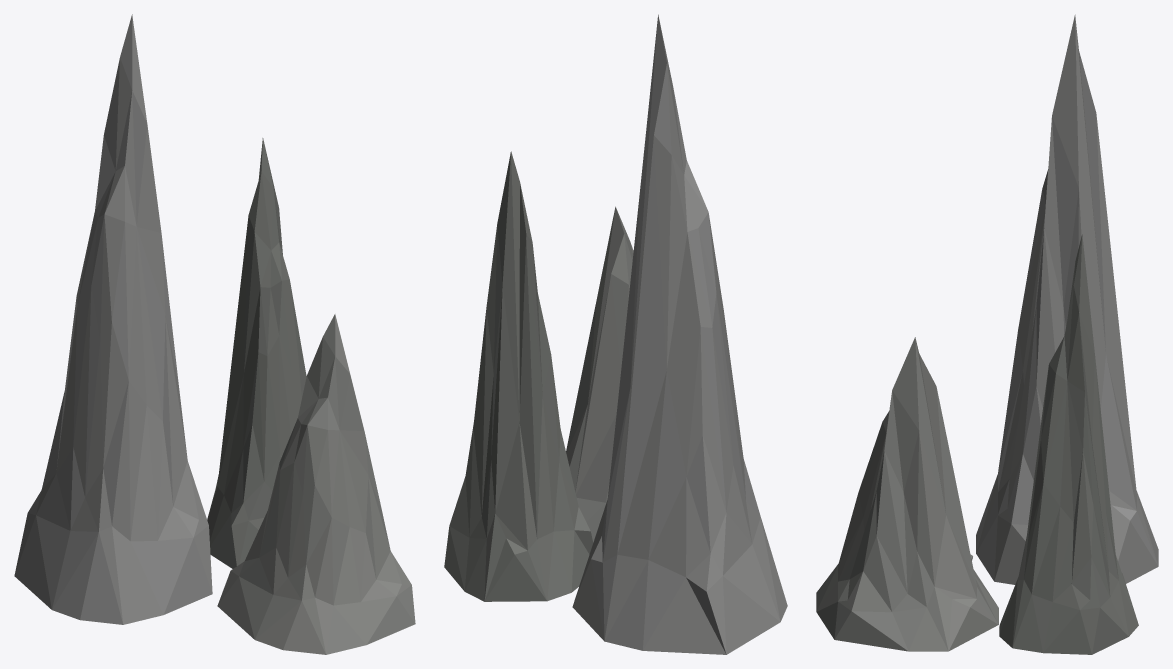
Rendered from DD_Rock09.fbx.
3 renders of one model, left to right at view 1: azimuth 30°, elevation 25°; view 2: azimuth 150°, elevation 25°; view 3: azimuth 270°, elevation 25°, orthographic. The views are drawn at different scales.
Parts seen in each view (by area): view 1: DD_Rock09; view 2: DD_Rock09; view 3: DD_Rock09.
Part boxes in pixels (left/top/right/bottom): DD_Rock09: left=14, top=14, right=415, bottom=654; DD_Rock09: left=444, top=14, right=787, bottom=654; DD_Rock09: left=816, top=14, right=1158, bottom=654.
Size of the model in its own units: 42.49 by 78.42 by 44.31.
Materials: 1 (1 with a texture image).
